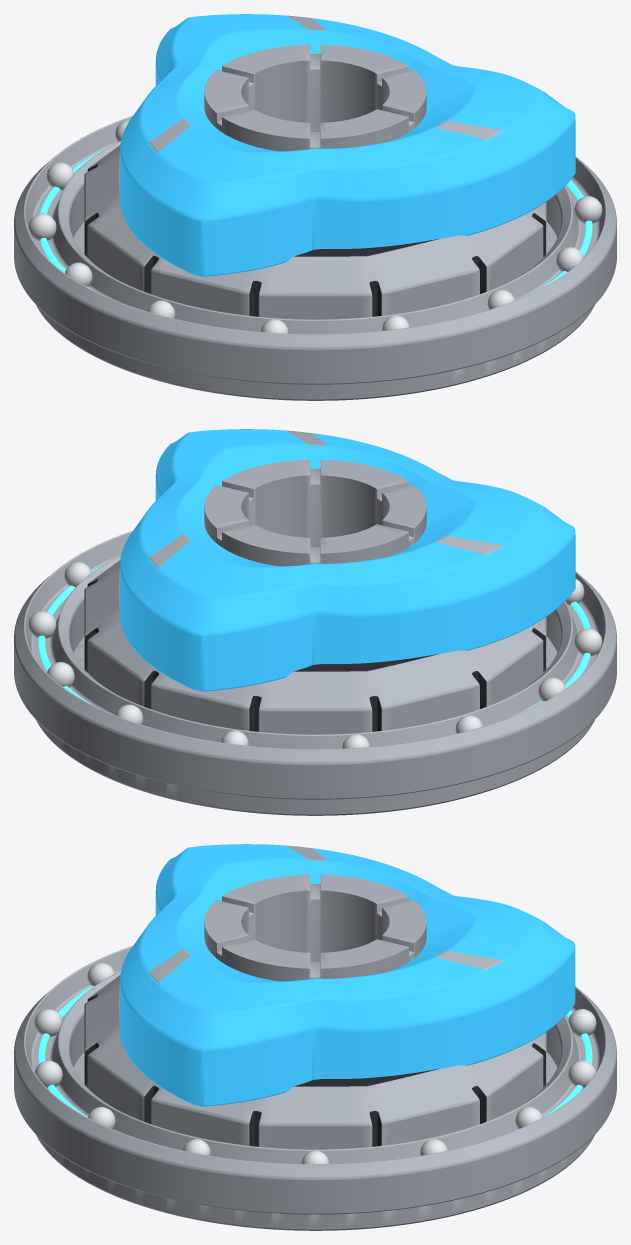
Rendered from orbit.glb.
3 renders of one model, top to bottom at view 1: azimuth 30°, elevation 25°; view 2: azimuth 150°, elevation 25°; view 3: azimuth 270°, elevation 25°, orthographic.
Parts seen in each view (by area): view 1: Ratsche, Laufring, Koerper, Kern, Grundplatte, Rillenleuchte, Kugel.006, Kugel.013, Kugel.005; view 2: Ratsche, Laufring, Koerper, Kern, Grundplatte, Rillenleuchte, Kugel.001, Kugel.008; view 3: Ratsche, Laufring, Koerper, Kern, Grundplatte, Rillenleuchte, Kugel.004, Kugel.010, Kugel.003, Kugel.011.
Part boxes in pixels (x1,y1,x2,y2): Ratsche: (120, 14, 575, 276); Laufring: (14, 115, 616, 384); Koerper: (84, 145, 546, 319); Kern: (204, 44, 426, 151); Grundplatte: (36, 222, 594, 400); Rillenleuchte: (40, 149, 592, 289); Kugel.006: (28, 213, 56, 241); Kugel.013: (574, 196, 602, 223); Kugel.005: (46, 162, 74, 190); Ratsche: (120, 429, 575, 691); Laufring: (14, 530, 616, 799); Koerper: (84, 560, 546, 734); Kern: (204, 459, 426, 566); Grundplatte: (36, 637, 594, 815); Rillenleuchte: (38, 564, 590, 704); Kugel.001: (28, 611, 56, 638); Kugel.008: (574, 628, 602, 656); Ratsche: (120, 844, 575, 1106); Laufring: (14, 946, 616, 1214); Koerper: (84, 975, 546, 1149); Kern: (204, 874, 426, 981); Grundplatte: (36, 1052, 594, 1230); Rillenleuchte: (38, 985, 592, 1117); Kugel.004: (568, 1009, 596, 1036); Kugel.010: (34, 1009, 62, 1036); Kugel.003: (568, 1060, 595, 1088); Kugel.011: (35, 1060, 62, 1088).
Bounding box in the file's own units: 0.358 × 0.1245 × 0.358.
